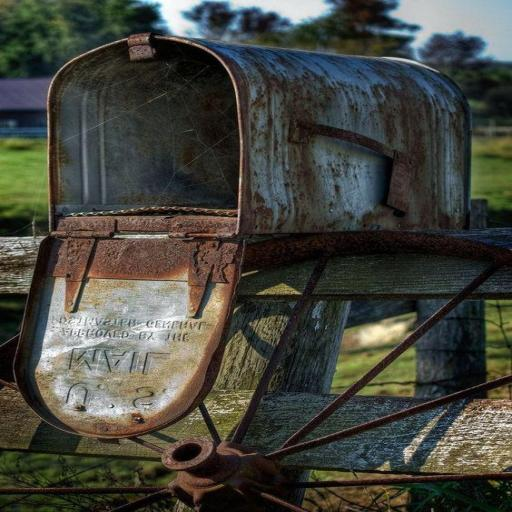segmentation: (35, 213, 245, 437), (48, 31, 275, 234), (285, 261, 502, 449), (279, 110, 429, 216), (362, 83, 455, 231), (238, 228, 510, 273), (162, 439, 300, 511), (278, 144, 353, 233), (249, 72, 342, 120), (331, 471, 510, 488), (1, 486, 162, 496)
